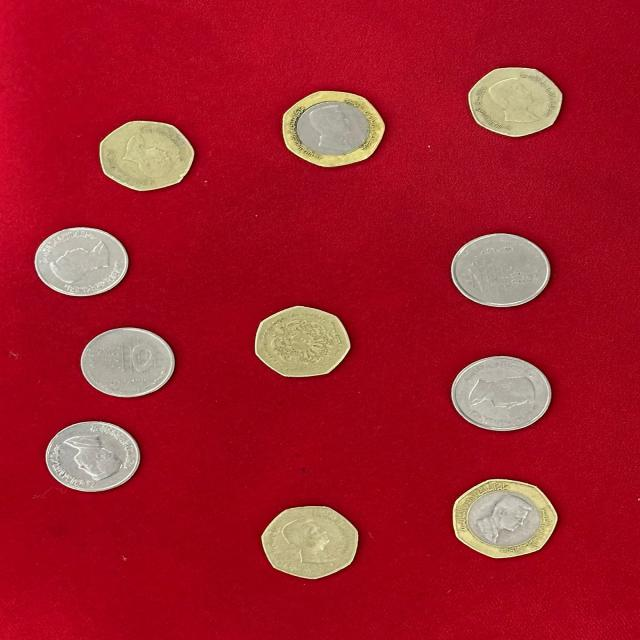10-coins: (448, 230, 554, 310), (447, 354, 555, 432)
25-coins: (260, 499, 360, 583), (466, 65, 568, 142), (252, 304, 358, 378), (96, 119, 198, 192)
5-coins: (43, 414, 146, 496), (74, 322, 182, 398), (32, 224, 135, 299)
50-coins: (445, 476, 562, 559), (281, 86, 388, 170)
